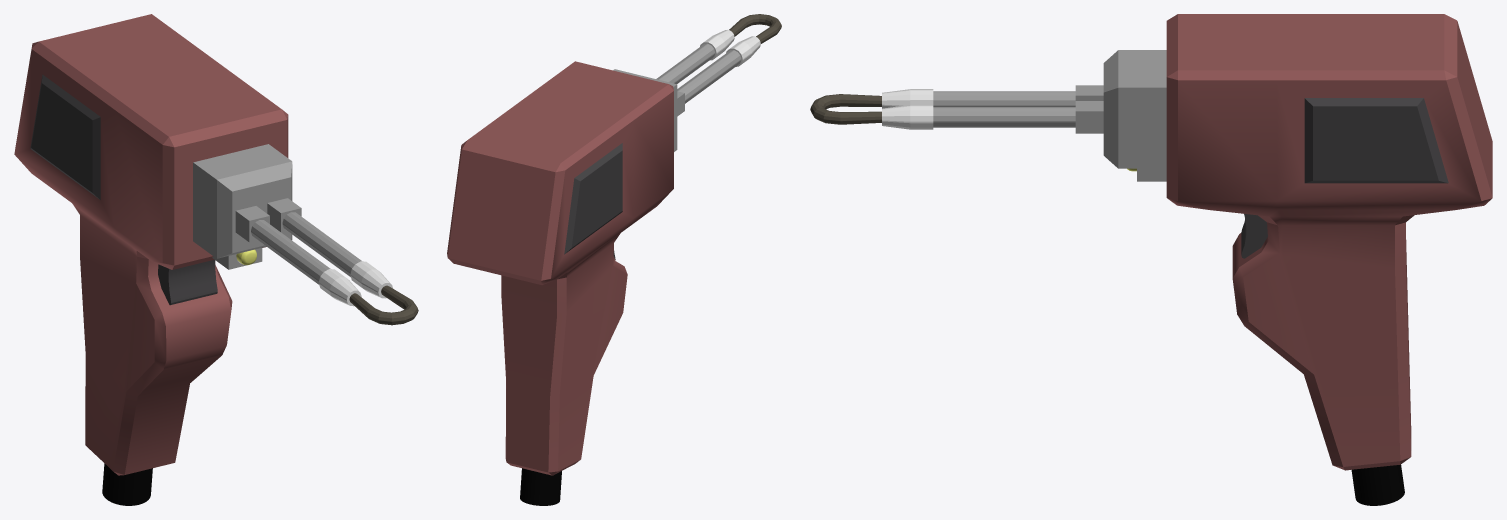
The model's file is Spajkovačka.fbx.
3 renders of one model, left to right at view 1: azimuth 30°, elevation 25°; view 2: azimuth 150°, elevation 25°; view 3: azimuth 270°, elevation 25°, orthographic. The views are drawn at different scales.
Visible parts, largest first — view 1: Transformatorova spajkovačka, Push this to solder; view 2: Transformatorova spajkovačka; view 3: Transformatorova spajkovačka, Push this to solder.
Boxes of the visible parts, x1,y1,x2,y2 form: Transformatorova spajkovačka: (14,14,418,505); Push this to solder: (158,259,217,305); Transformatorova spajkovačka: (447,14,781,505); Transformatorova spajkovačka: (810,14,1492,505); Push this to solder: (1241,214,1267,258).
Size of the model in its own units: 215 by 678 by 921.
